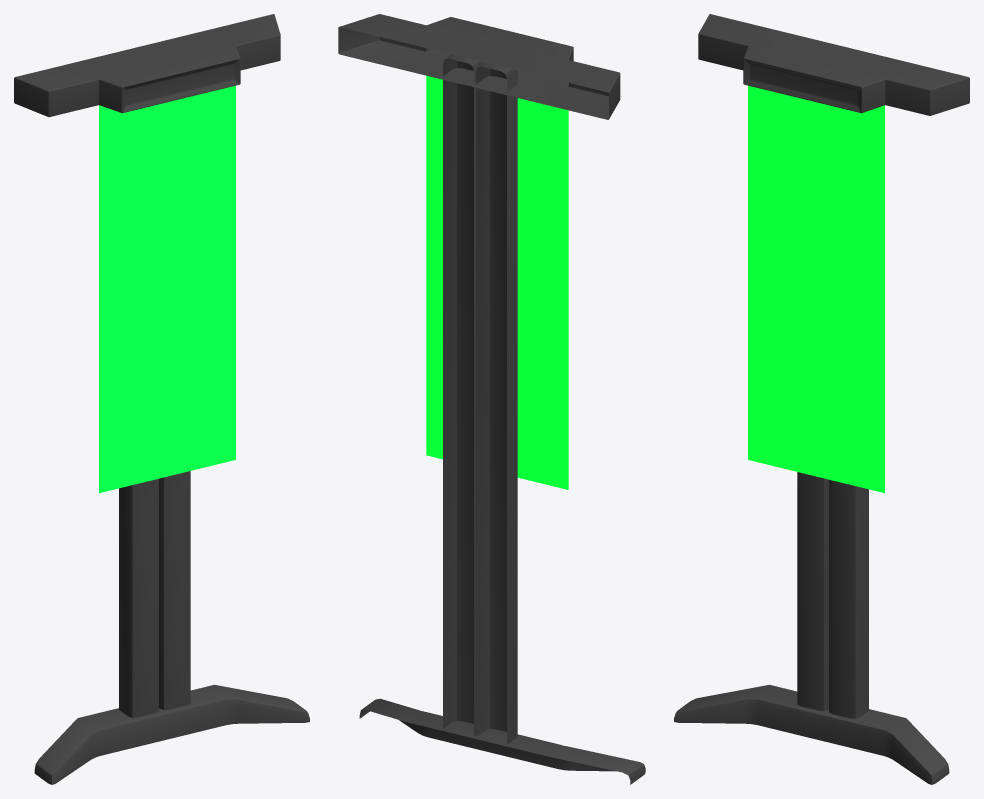
File: CheckPoint_On.fbx
3 renders of one model, left to right at view 1: azimuth 30°, elevation 25°; view 2: azimuth 150°, elevation 25°; view 3: azimuth 330°, elevation 25°, orthographic. The views are drawn at different scales.
Parts seen in each view (by area): view 1: Flag, CheckPointTop, CheckPointBase, CheckPointStand001, CheckPointStand002; view 2: CheckPointStand001, Flag, CheckPointStand002, CheckPointTop, CheckPointBase; view 3: Flag, CheckPointTop, CheckPointBase, CheckPointStand002, CheckPointStand001.
Boxes of the visible parts, x1,y1,x2,y2 form: Flag: (99,85,235,493); CheckPointTop: (14,14,280,117); CheckPointBase: (34,684,309,784); CheckPointStand001: (119,478,158,717); CheckPointStand002: (159,471,190,710); CheckPointStand001: (476,62,517,744); Flag: (426,75,568,489); CheckPointStand002: (443,54,483,736); CheckPointTop: (338,14,620,119); CheckPointBase: (359,698,645,784); Flag: (748,85,884,493); CheckPointTop: (698,14,969,115); CheckPointBase: (674,684,949,784); CheckPointStand002: (829,479,868,718); CheckPointStand001: (797,472,828,710).
Size of the model in its own units: 42.18 by 105 by 10.38.
Materials: 1 (1 with a texture image).
